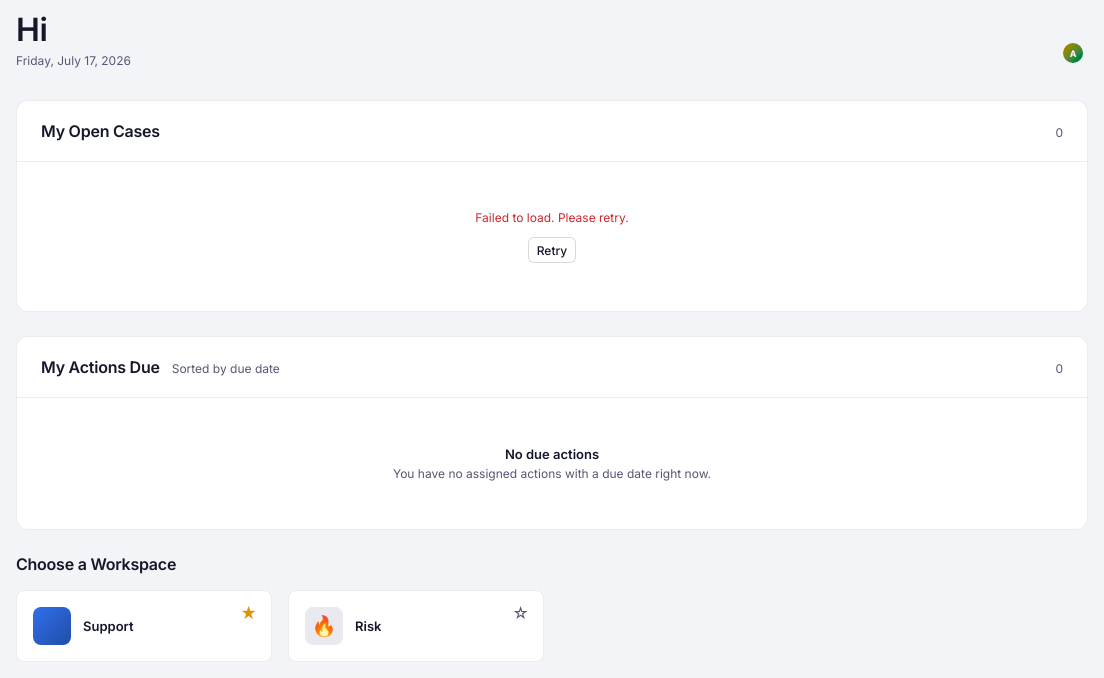
Test: Home › retries the open-cases query when the retry button is clicked after a failure
Click the button "Retry".
click(552, 250)  # box [528,237,576,263]
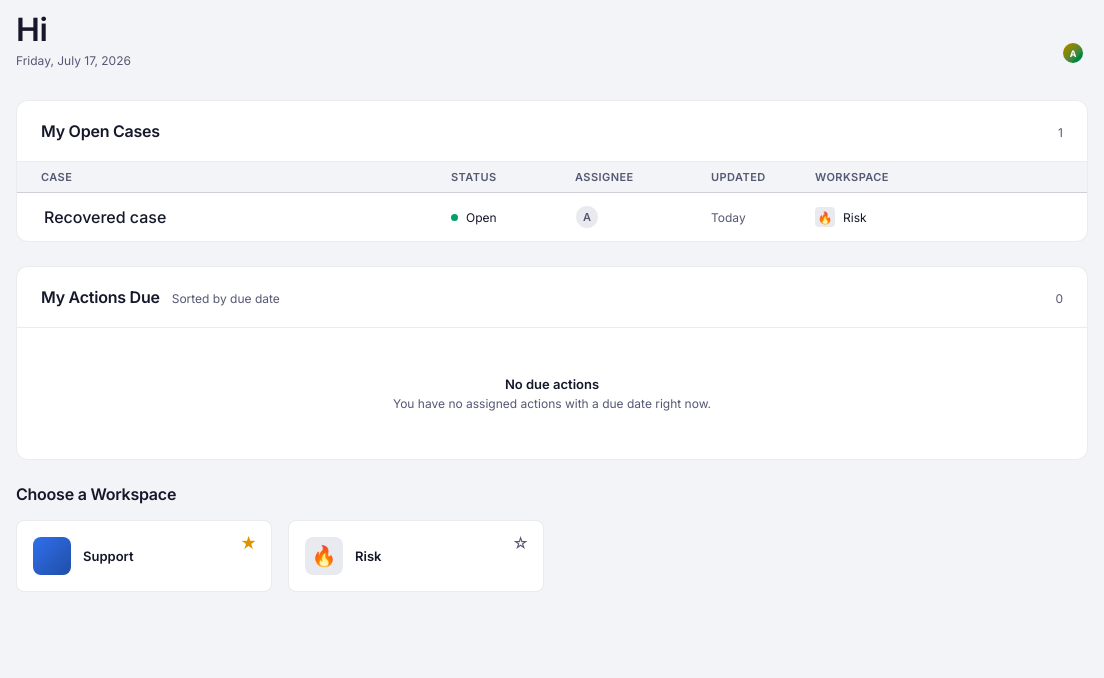
Expected: the link "Recovered case" is shown, [44,207,166,227]
